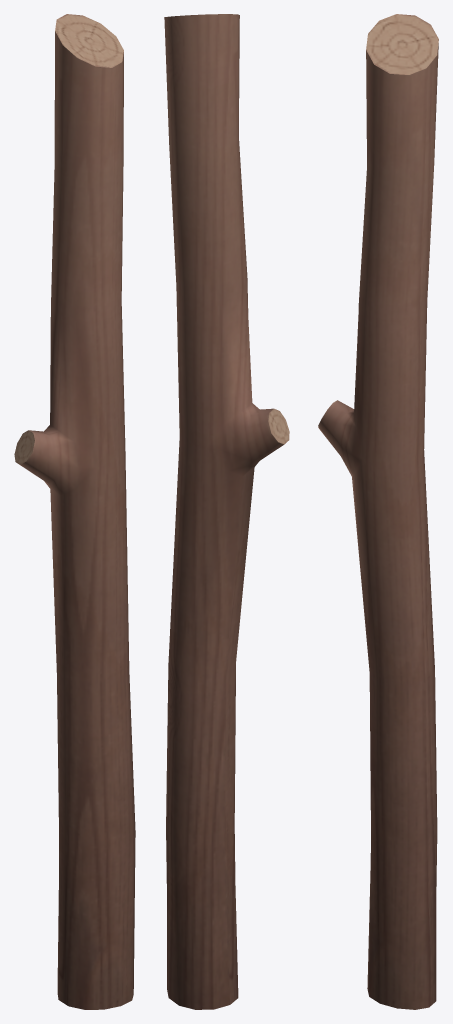
The picture shows the model from 3 angles, left to right: view 1: azimuth 30°, elevation 25°; view 2: azimuth 150°, elevation 25°; view 3: azimuth 330°, elevation 25°; orthographic projection. The views are drawn at different scales.
Parts seen in each view (by area): view 1: submesh_0; view 2: submesh_0; view 3: submesh_0.
Part boxes in pixels (x1,y1,x2,y2): submesh_0: (14, 14, 135, 1009); submesh_0: (164, 14, 289, 1009); submesh_0: (318, 14, 438, 1009).
Size of the model in its own units: 0.2172 by 1.78 by 0.138.
Materials: 1 (1 with a texture image).
